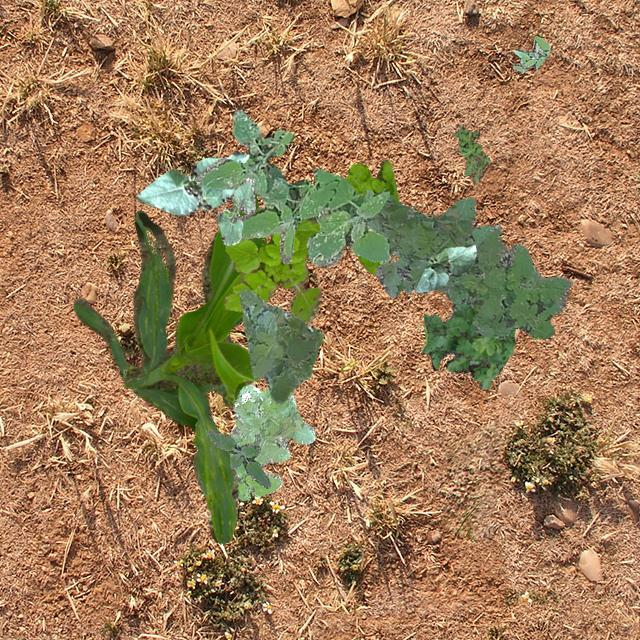crop: (72, 192, 266, 544), (136, 150, 248, 214), (414, 242, 474, 292), (216, 177, 254, 244)
weed: (193, 108, 390, 266), (367, 194, 570, 338), (222, 158, 398, 322), (228, 382, 314, 500), (238, 288, 322, 402), (420, 302, 514, 388), (207, 428, 270, 486), (454, 124, 488, 182), (512, 34, 550, 72)
